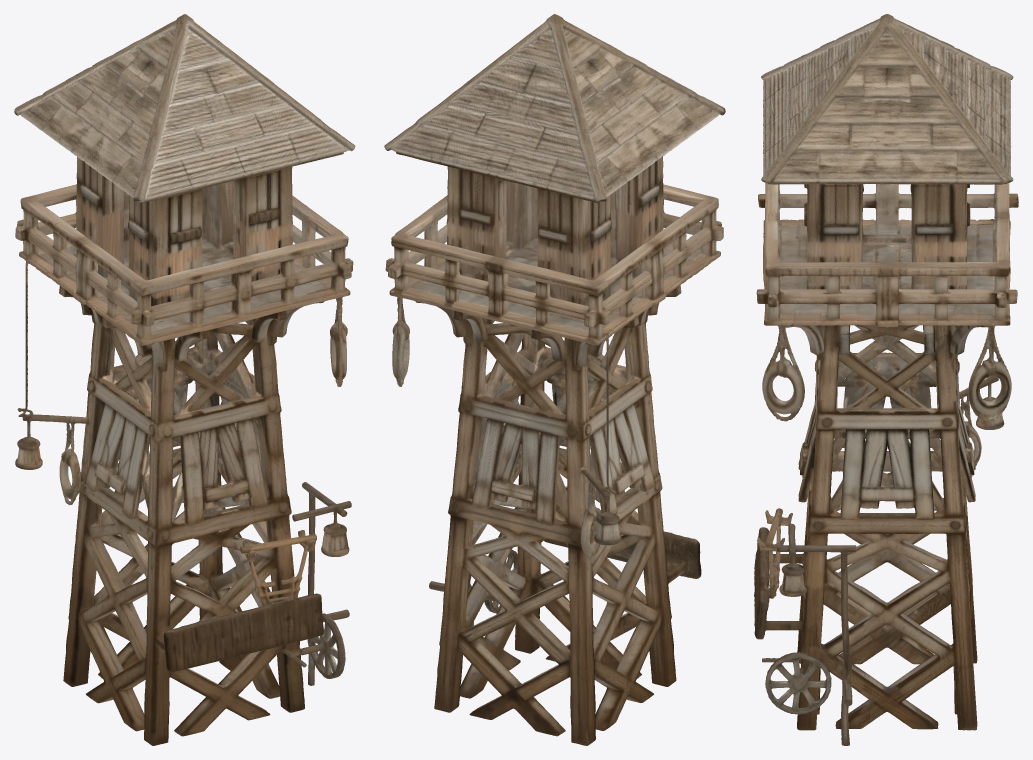
Rendered from Timber_Watchtower.glb.
The picture shows the model from 3 angles, left to right: view 1: azimuth 30°, elevation 25°; view 2: azimuth 150°, elevation 25°; view 3: azimuth 270°, elevation 25°; orthographic projection.
Size of the model in its own units: 0.7598 by 1.9 by 0.6707.
Materials: 1 (1 with a texture image).
